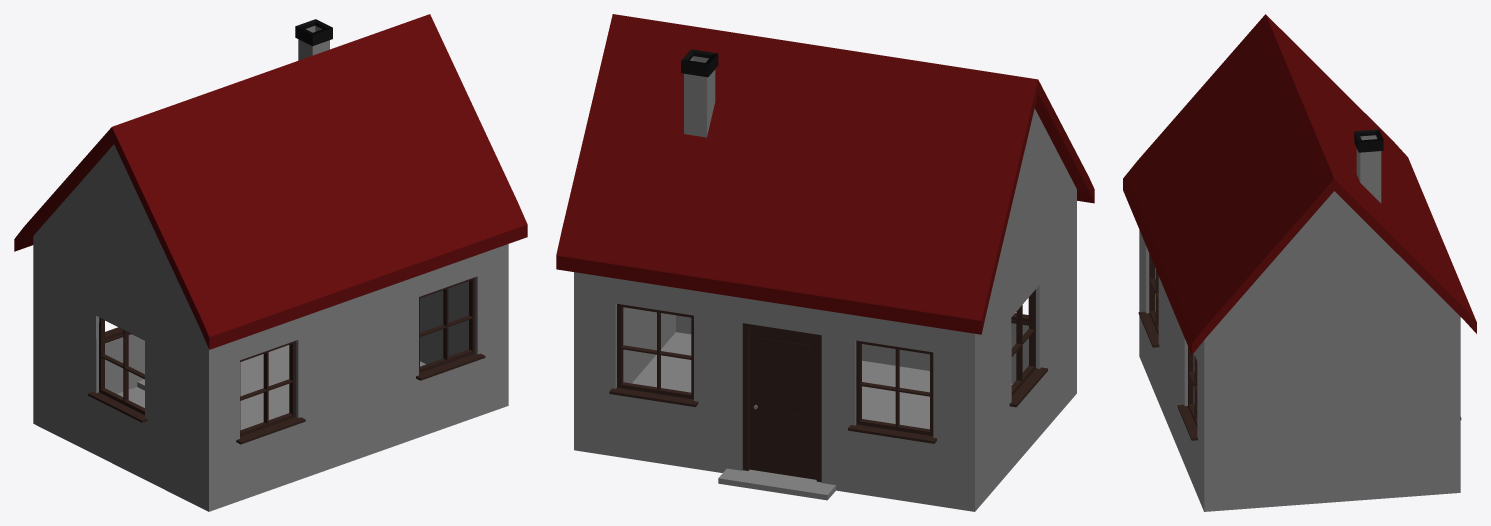
Rendered from House.obj.
The picture shows the model from 3 angles, left to right: view 1: azimuth 30°, elevation 25°; view 2: azimuth 150°, elevation 25°; view 3: azimuth 270°, elevation 25°; orthographic projection. The views are drawn at different scales.
Parts seen in each view (by area): view 1: Box001, Box003; view 2: Box001, Box039, Plane006, Box040, Box002, Box032, Box033, Box035, Box036, Box037, Box038, Box003 (+2 smaller); view 3: Box001, Box002, Box003.
Part boxes in pixels (x1,y1,x2,y2): Box001: (14, 14, 527, 511); Box003: (295, 19, 332, 46); Box001: (556, 14, 1094, 511); Box039: (758, 338, 810, 477); Plane006: (749, 330, 816, 479); Box040: (718, 468, 835, 500); Box002: (684, 56, 715, 137); Box032: (742, 328, 749, 470); Box033: (816, 335, 821, 482); Box035: (764, 347, 779, 399); Box036: (788, 351, 803, 402); Box037: (788, 414, 803, 465); Box038: (764, 410, 779, 461); Box003: (681, 49, 718, 77); Box001: (1123, 14, 1476, 511); Box002: (1356, 135, 1381, 203); Box003: (1354, 129, 1383, 152).
Bounding box in the file's own units: 117 × 97.47 × 94.02.
